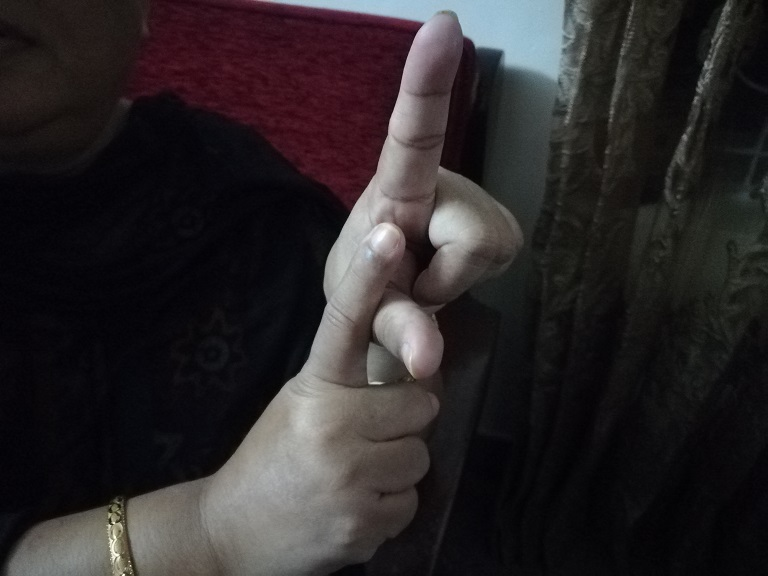dh: (294, 10, 518, 554)
